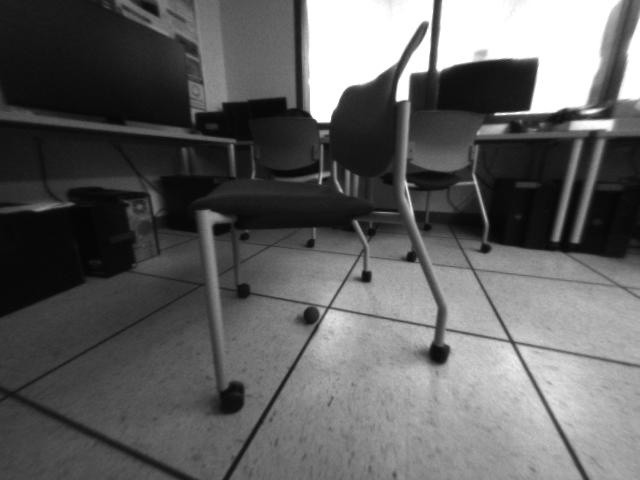dogtoy: (292, 299, 328, 329)
